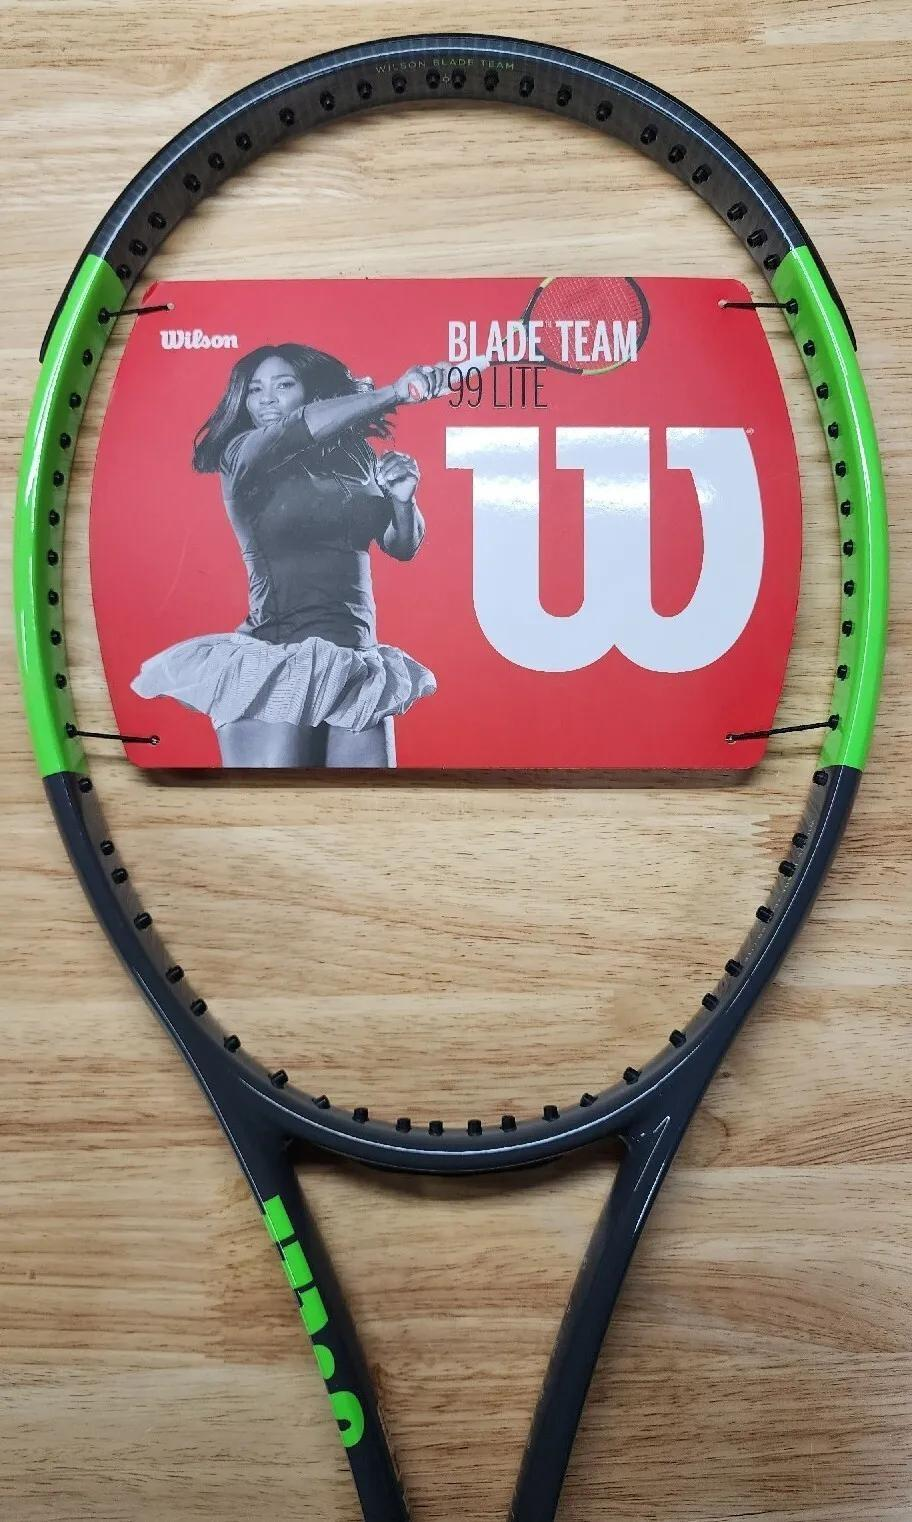Tennis-Racket: (15, 36, 889, 1522), (223, 357, 514, 642)
